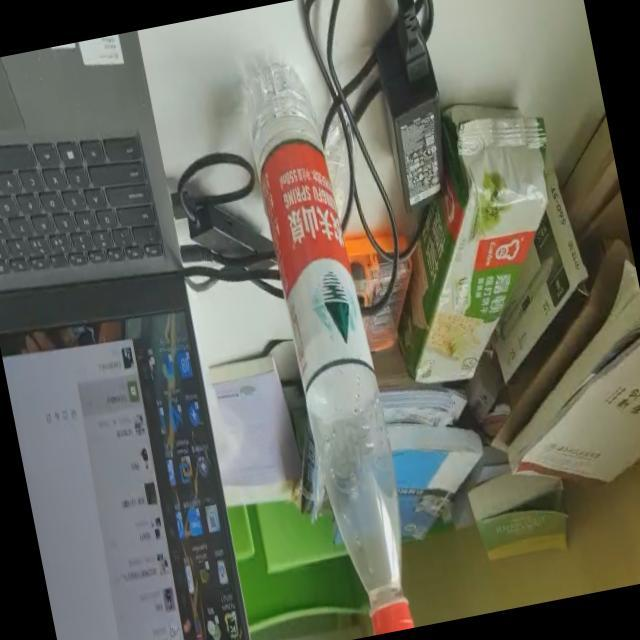good: (236, 38, 424, 640)
